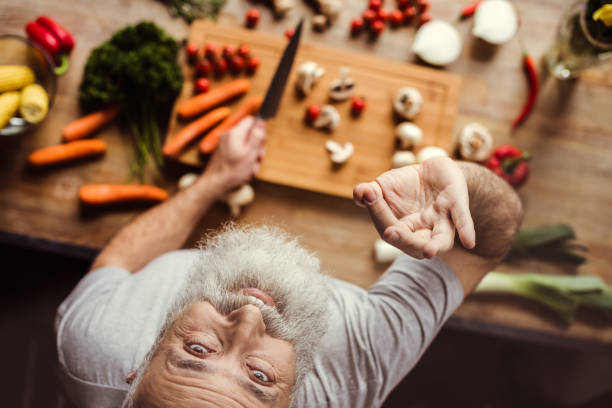knife: (256, 14, 306, 121)
